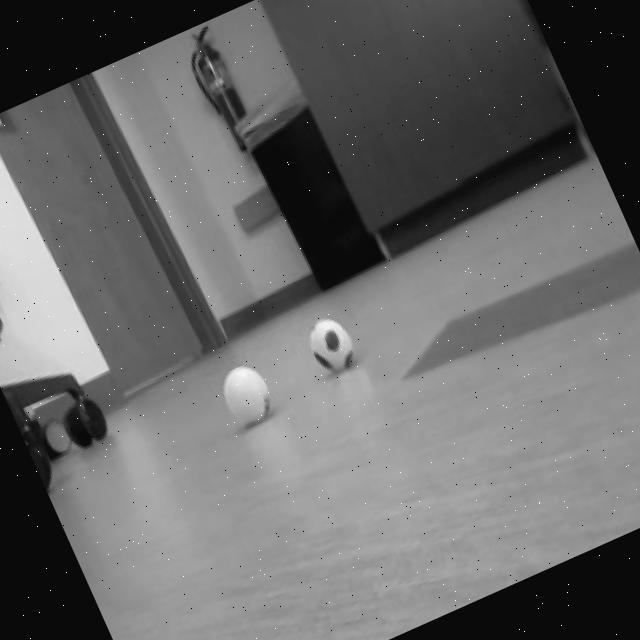ping-pong-ball: (205, 353, 282, 437), (296, 306, 364, 382)
